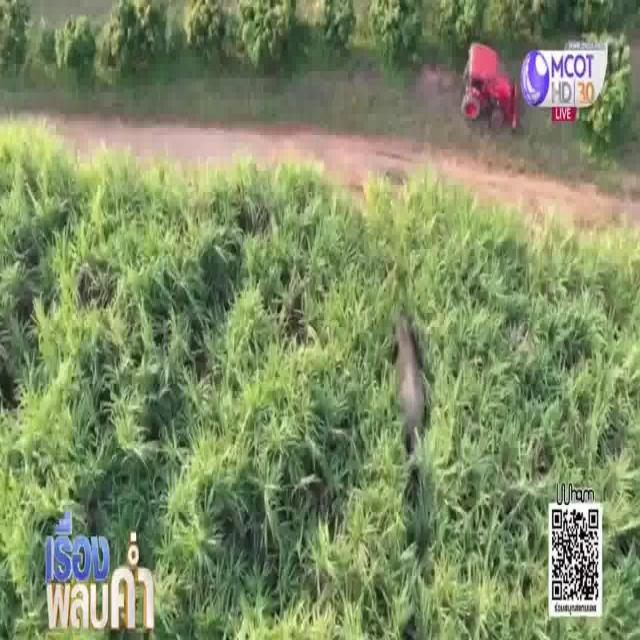Elephant: (394, 312, 426, 436)
